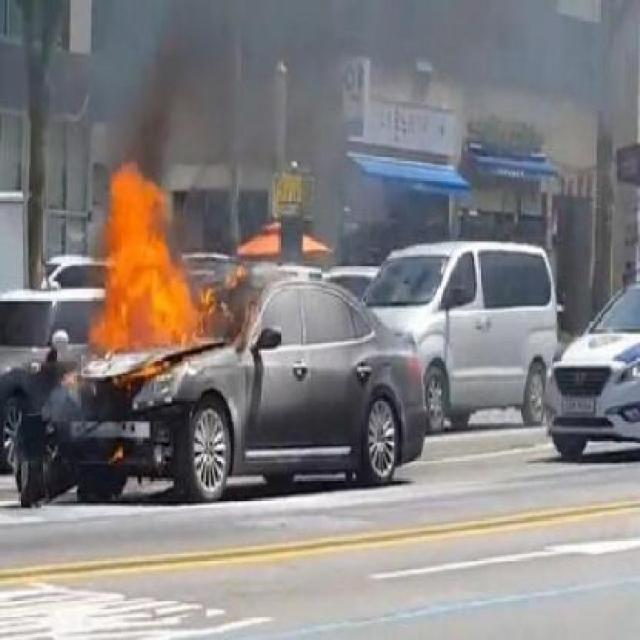Fire: (20, 166, 277, 422)
Smoke: (292, 13, 640, 196)
